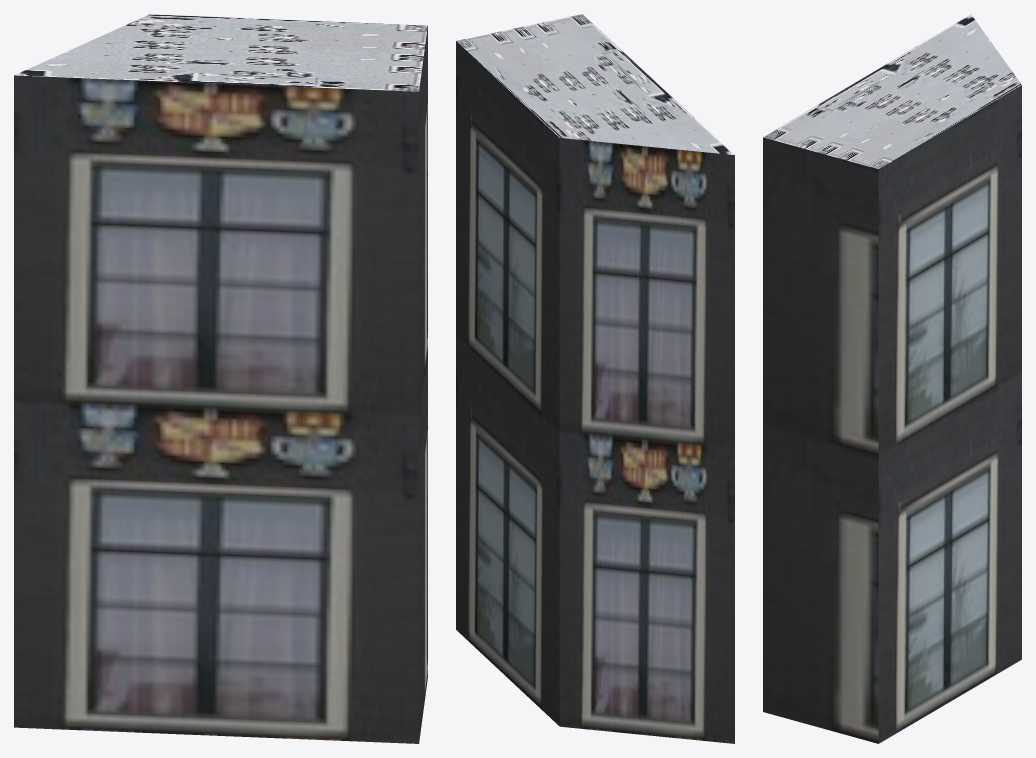
Rendered from ResTex__3672.fbx.
3 views of the same model, side by side, from view 1: azimuth 30°, elevation 25°; view 2: azimuth 150°, elevation 25°; view 3: azimuth 270°, elevation 25° (orthographic). The views are drawn at different scales.
Visible parts, largest first — view 1: CityEngineMaterial_22_m, CityEngineMaterial_4_m; view 2: CityEngineMaterial_22_m, CityEngineMaterial_4_m; view 3: CityEngineMaterial_22_m, CityEngineMaterial_4_m.
Part boxes in pixels (x1=…): CityEngineMaterial_22_m: x1=14, y1=26, x2=427, y2=743; CityEngineMaterial_4_m: x1=15, y1=14, x2=427, y2=91; CityEngineMaterial_22_m: x1=456, y1=41, x2=734, y2=743; CityEngineMaterial_4_m: x1=456, y1=14, x2=734, y2=155; CityEngineMaterial_22_m: x1=763, y1=85, x2=1021, y2=743; CityEngineMaterial_4_m: x1=763, y1=14, x2=1021, y2=169.
Bounding box in the file's own units: 3.48 × 6 × 2.45.
Materials: 2 (2 with a texture image).
